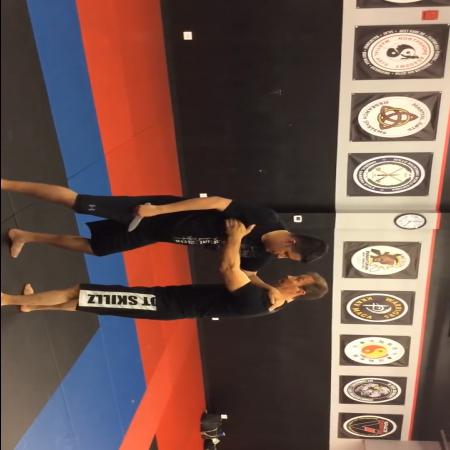long weapon: (125, 201, 152, 232)
